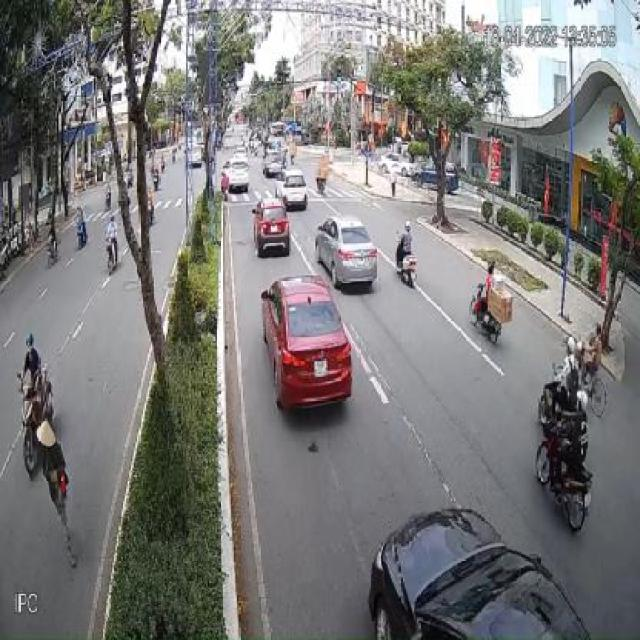car: (371, 502, 586, 640), (265, 276, 356, 416), (318, 219, 379, 296), (254, 197, 291, 256), (220, 154, 250, 197), (281, 170, 309, 213), (265, 161, 287, 180)
motorbike: (534, 415, 593, 532), (538, 341, 590, 441), (14, 336, 51, 472), (470, 278, 507, 346), (101, 215, 122, 275), (396, 234, 418, 290), (47, 227, 58, 267), (76, 203, 86, 247)
